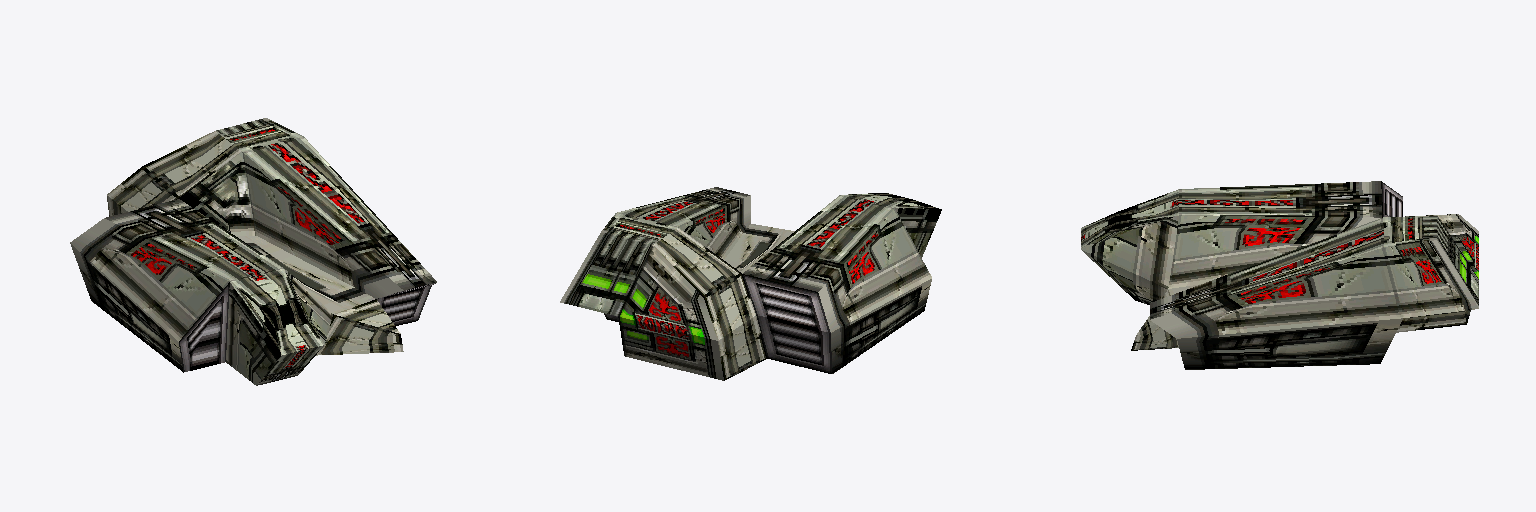
The picture shows the model from 3 angles: view 1: azimuth 30°, elevation 25°; view 2: azimuth 150°, elevation 25°; view 3: azimuth 270°, elevation 25°; orthographic projection.
Parts seen in each view (by area): view 1: default; view 2: default; view 3: default.
Part boxes in pixels (bbox=[...]): default: bbox=[70, 118, 436, 385]; default: bbox=[560, 187, 941, 380]; default: bbox=[1081, 181, 1478, 369].
Bounding box in the file's own units: 3.54 × 1.61 × 4.92.
2 materials, 2 textured.